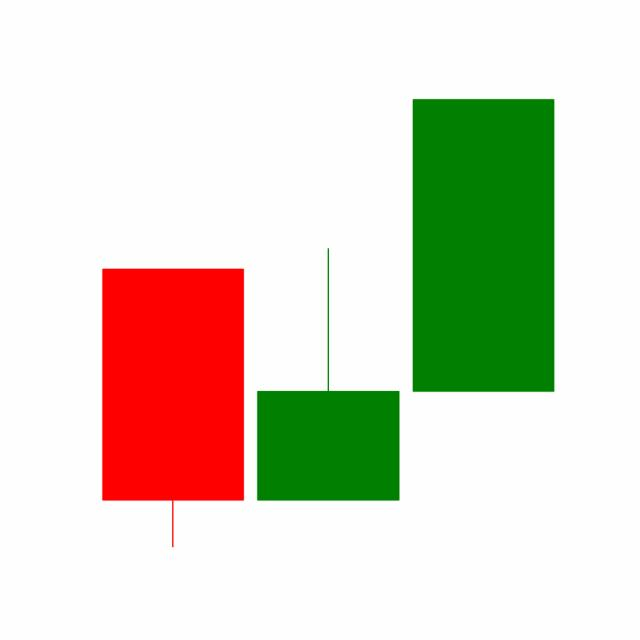Marubozu: (405, 95, 561, 395)
